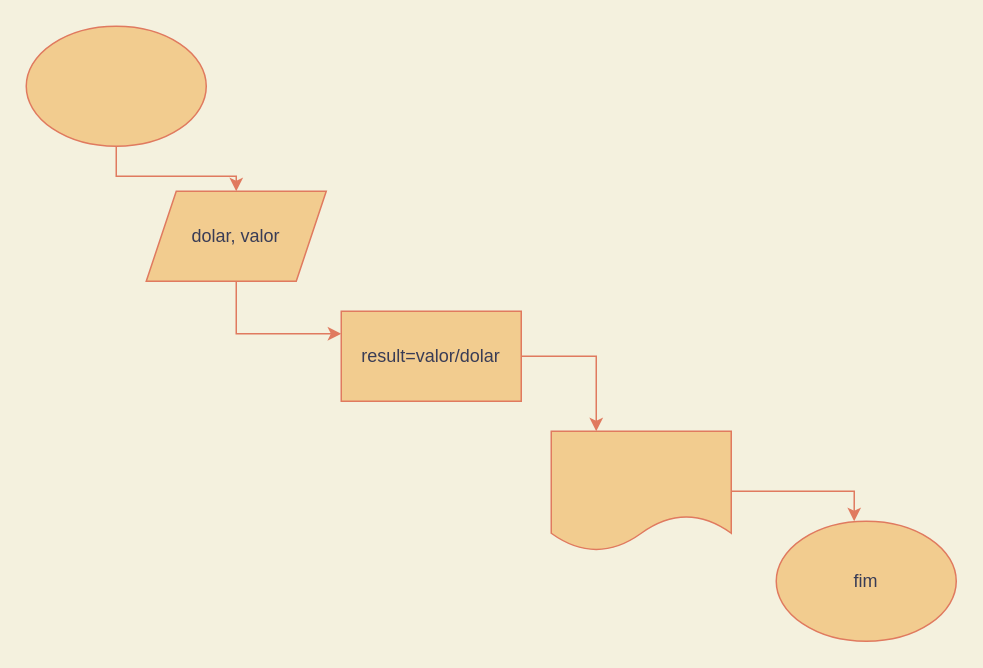
This 983x668 diagram has some shape labels left out. The centre of each missing label's shape, as x and y in pixels:
"inicio" belongs at point (115, 85).
"result" belongs at point (640, 490).
